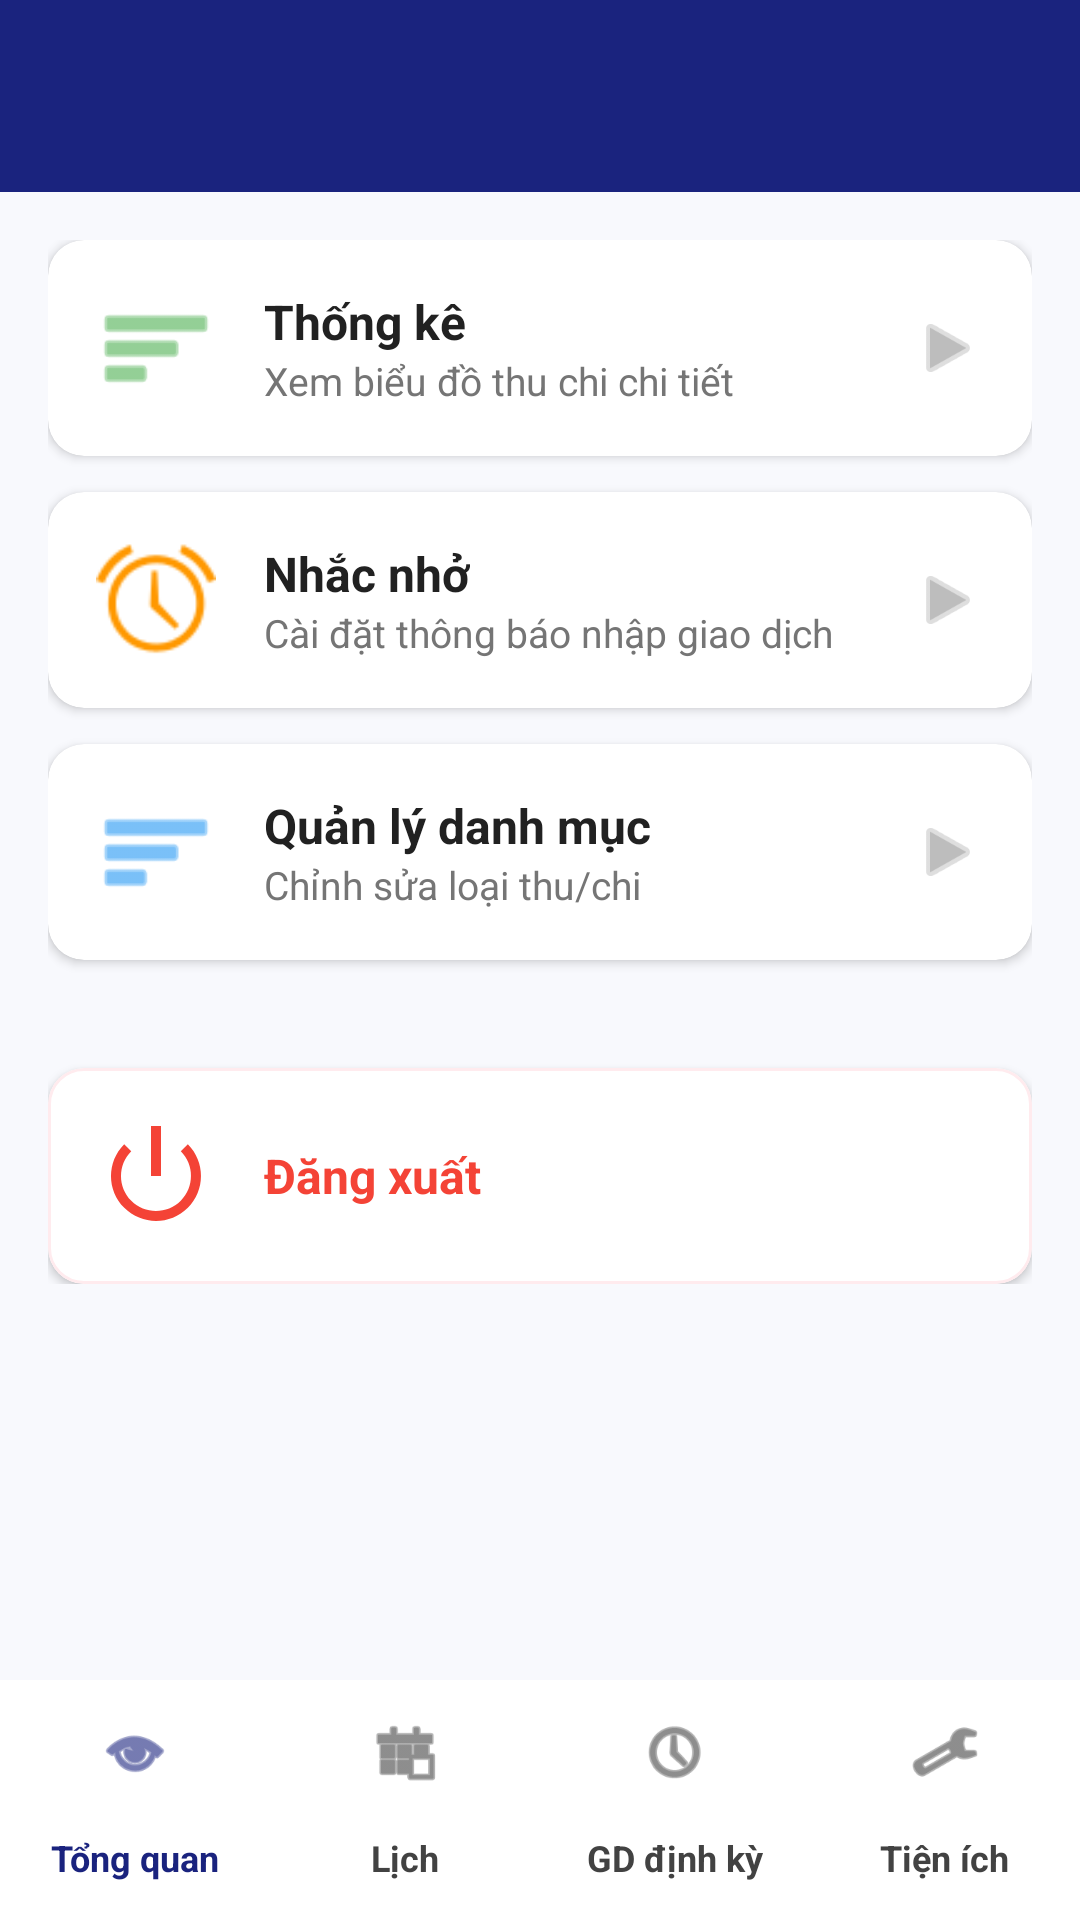

Named icons in this screenshot (1080x1920) and their centers, (x,y):
lock idle alarm: (156,598)
lock power off: (156,1173)
play: (948,348), (948,600), (948,852)
sort by size: (156,348), (156,852)
